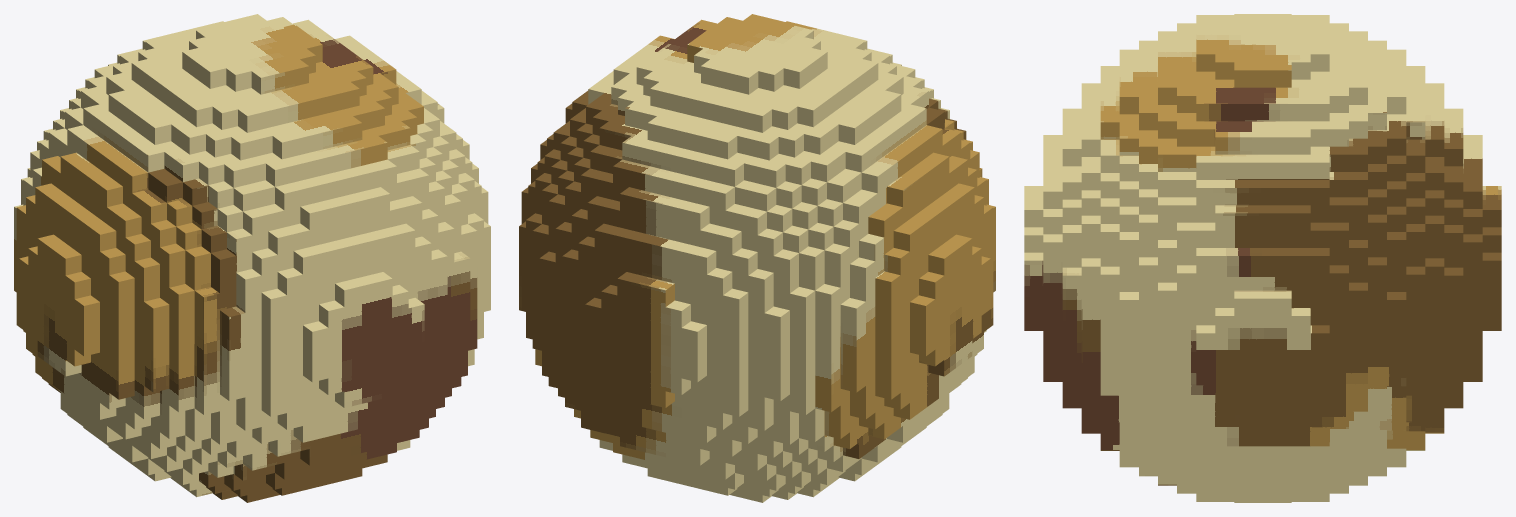
Rendered from normal.glb.
The picture shows the model from 3 angles, left to right: view 1: azimuth 30°, elevation 25°; view 2: azimuth 150°, elevation 25°; view 3: azimuth 270°, elevation 25°; orthographic projection. The views are drawn at different scales.
Visible parts, largest first — view 1: NormalBall_01.001; view 2: NormalBall_01.001; view 3: NormalBall_01.001.
Boxes of the visible parts, <box> form: NormalBall_01.001: <box>14,14,490,502</box>; NormalBall_01.001: <box>519,14,995,502</box>; NormalBall_01.001: <box>1024,14,1501,502</box>.
Bounding box in the file's own units: 2.5 × 2.5 × 2.5.
1 material, 1 textured.
